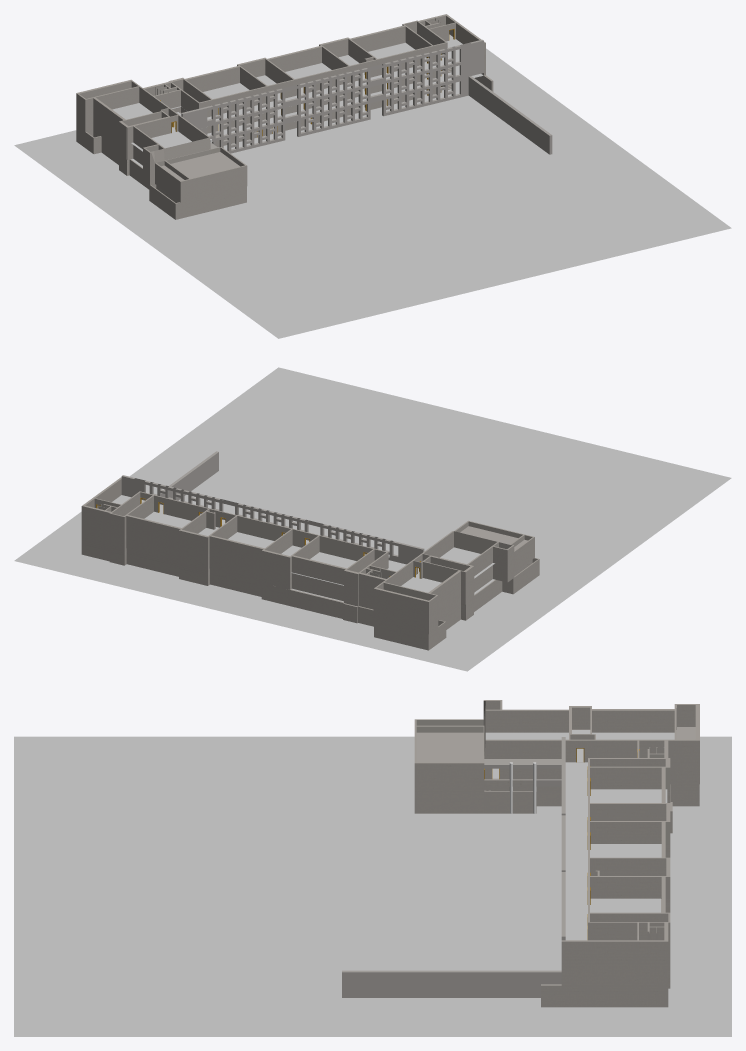
File: Block_L_MCAST.fbx
3 views of the same model, one above another, from view 1: azimuth 30°, elevation 25°; view 2: azimuth 150°, elevation 25°; view 3: azimuth 270°, elevation 25° (orthographic). The views are drawn at different scales.
Visible parts, largest first — view 1: Plane.003, BlockMLevel1Structure, FrontPart.006, FrontPart.001, BlockMLevel0Structure, Plane.002, FrontPart.003, FrontPart.002, Plane, Plane.001; view 2: Plane.003, BlockMLevel1Structure, BlockMLevel0Structure, FrontPart.006, Plane.002, FrontPart.001; view 3: Plane.003, BlockMLevel1Structure, Plane.002, BlockMLevel0Structure, FrontPart.001, FrontPart.006.
Part boxes in pixels (x1,y1,x2,y2): Plane.003: [14, 48, 731, 338]; BlockMLevel1Structure: [76, 14, 485, 202]; FrontPart.006: [181, 39, 483, 149]; FrontPart.001: [382, 59, 552, 154]; BlockMLevel0Structure: [76, 75, 493, 219]; Plane.002: [112, 34, 462, 151]; FrontPart.003: [199, 108, 298, 141]; FrontPart.002: [212, 124, 285, 153]; Plane: [218, 81, 459, 150]; Plane.001: [131, 65, 483, 167]; Plane.003: [14, 367, 731, 671]; BlockMLevel1Structure: [81, 477, 534, 634]; BlockMLevel0Structure: [81, 538, 539, 650]; FrontPart.006: [121, 475, 424, 564]; Plane.002: [112, 495, 494, 592]; FrontPart.001: [161, 451, 218, 500]; Plane.003: [14, 736, 731, 1036]; BlockMLevel1Structure: [414, 700, 699, 985]; Plane.002: [485, 730, 674, 940]; BlockMLevel0Structure: [414, 784, 699, 1007]; FrontPart.001: [342, 970, 561, 997]; FrontPart.006: [484, 737, 565, 940].
Size of the model in its own units: 8792 by 950 by 8882.
